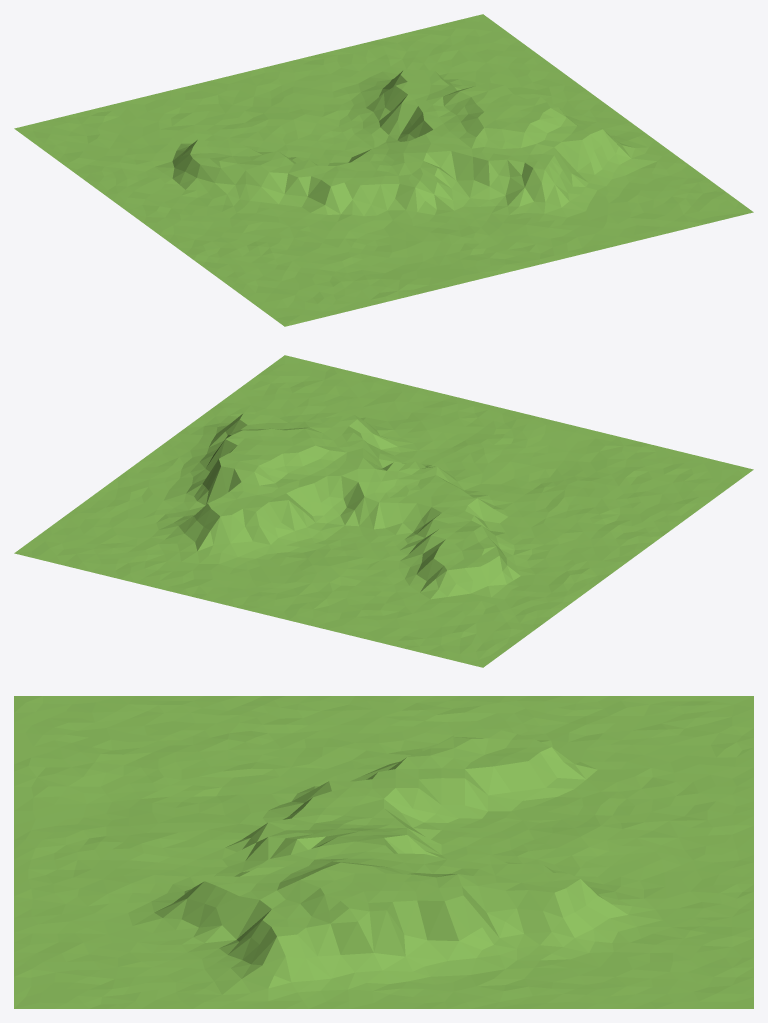
The model's file is MT_Terrain_L_c_08_LOD.fbx.
3 views of the same model, one above another, from view 1: azimuth 30°, elevation 25°; view 2: azimuth 150°, elevation 25°; view 3: azimuth 270°, elevation 25° (orthographic). The views are drawn at different scales.
Parts seen in each view (by area): view 1: MT_Terrain_L_c_08_LOD0; view 2: MT_Terrain_L_c_08_LOD0; view 3: MT_Terrain_L_c_08_LOD0.
Part boxes in pixels (x1,y1,x2,y2): MT_Terrain_L_c_08_LOD0: [14, 14, 753, 326]; MT_Terrain_L_c_08_LOD0: [14, 355, 753, 667]; MT_Terrain_L_c_08_LOD0: [14, 696, 753, 1008].
Size of what is drawn, in the model's own units: 10000 by 749 by 10000.
